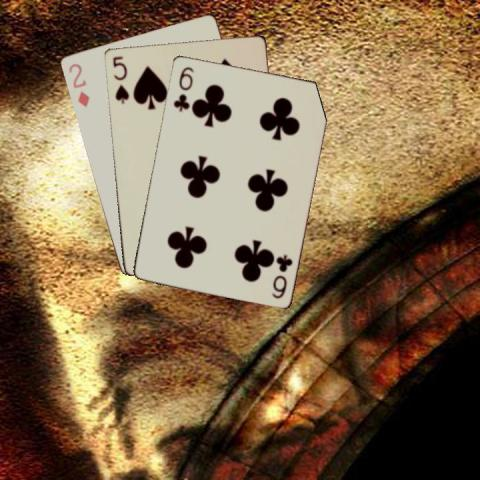2d: (65, 60, 91, 108)
5s: (109, 52, 130, 104)
6c: (268, 251, 294, 300), (170, 63, 195, 113)
